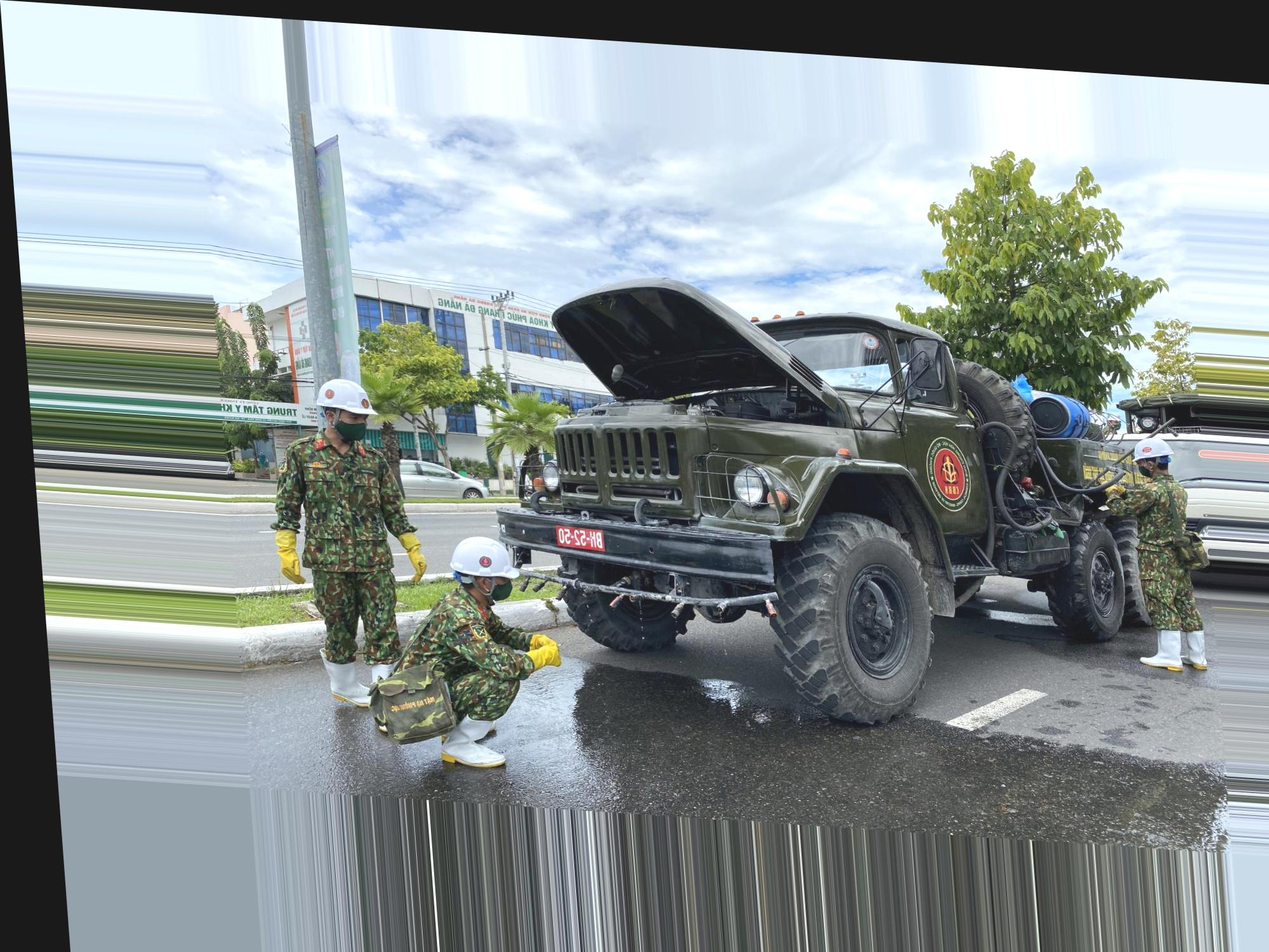License_Plate: (552, 523, 605, 559)
